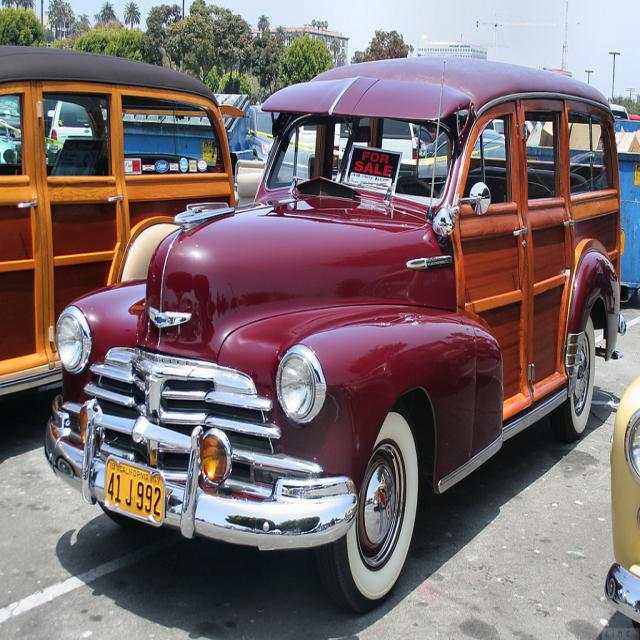car: (47, 51, 624, 617)
